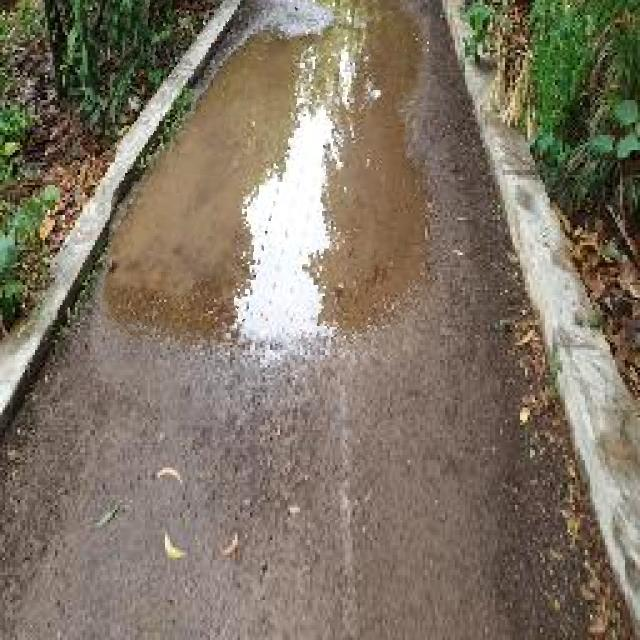puddle: (108, 1, 425, 349)
